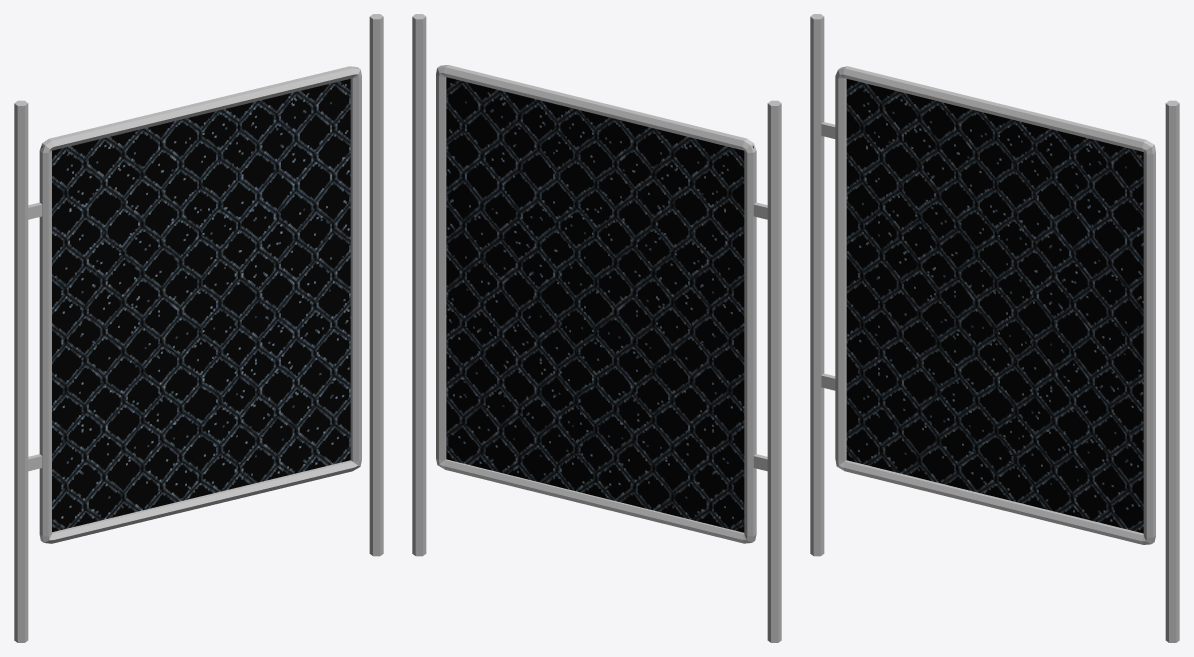
The model's file is sketchfab_2023_02_27_11_39_58.fbx.
3 renders of one model, left to right at view 1: azimuth 30°, elevation 25°; view 2: azimuth 150°, elevation 25°; view 3: azimuth 330°, elevation 25°, orthographic.
Parts seen in each view (by area): view 1: gate, frame; view 2: gate, frame; view 3: gate, frame.
Part boxes in pixels (x1=…): gate: x1=39, y1=66, x2=361, y2=543; frame: x1=14, y1=14, x2=383, y2=642; gate: x1=436, y1=65, x2=756, y2=543; frame: x1=412, y1=14, x2=781, y2=642; gate: x1=835, y1=66, x2=1155, y2=544; frame: x1=810, y1=14, x2=1179, y2=642.
Size of the model in its own units: 119 by 167 by 4.3.
